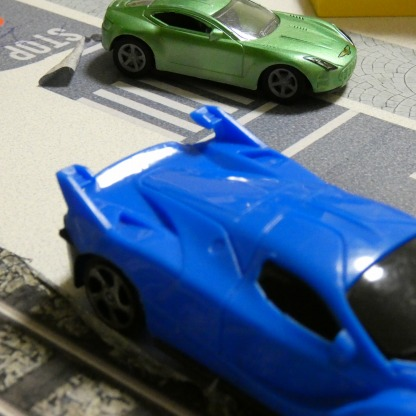car: (50, 110, 416, 416), (100, 0, 362, 108)
